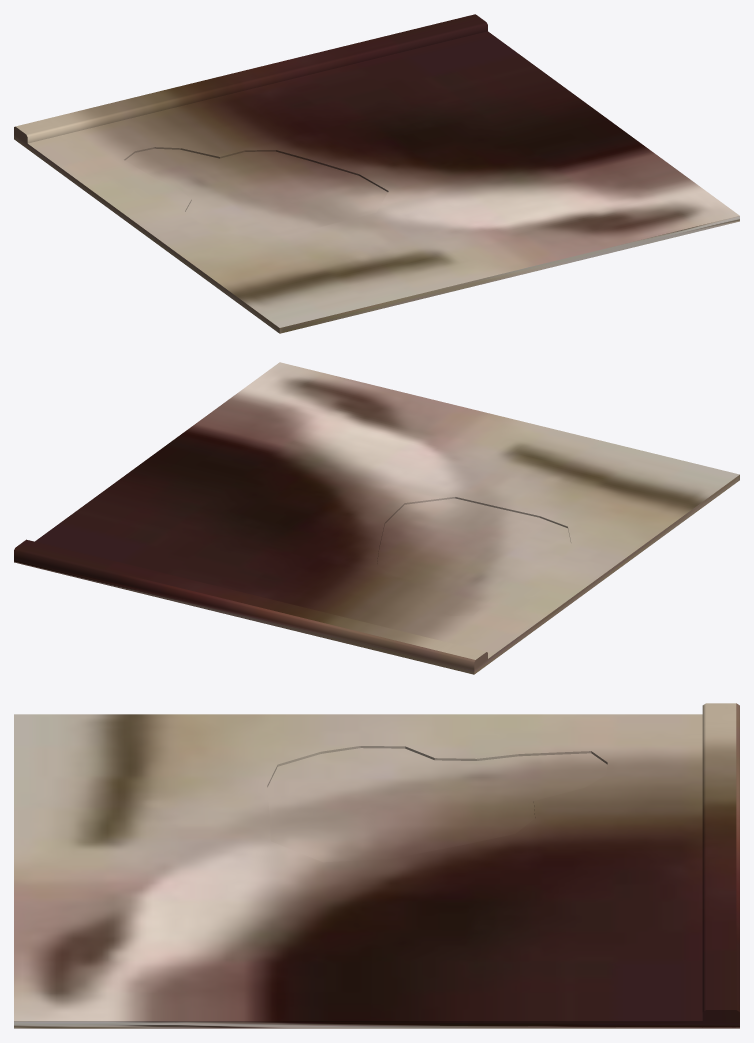
File: pavement.obj
3 renders of one model, top to bottom at view 1: azimuth 30°, elevation 25°; view 2: azimuth 150°, elevation 25°; view 3: azimuth 270°, elevation 25°, orthographic. The views are drawn at different scales.
Visible parts, largest first — view 1: Cube; view 2: Cube; view 3: Cube.
Boxes of the visible parts, box(x1,y1,x2,y2) form: Cube: box(14, 14, 739, 333); Cube: box(14, 362, 739, 674); Cube: box(14, 703, 739, 1028).
Size of the model in its own units: 11.22 by 0.3208 by 11.22.
1 material, 1 textured.
